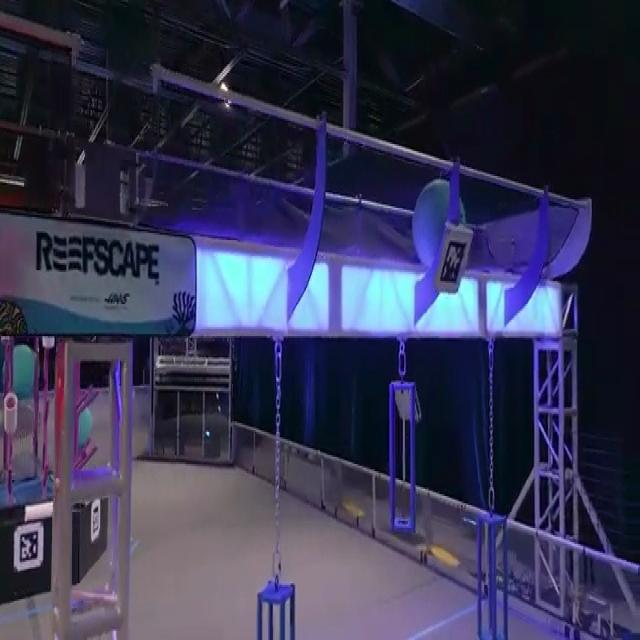Algae: (412, 177, 467, 275), (77, 407, 92, 446)
